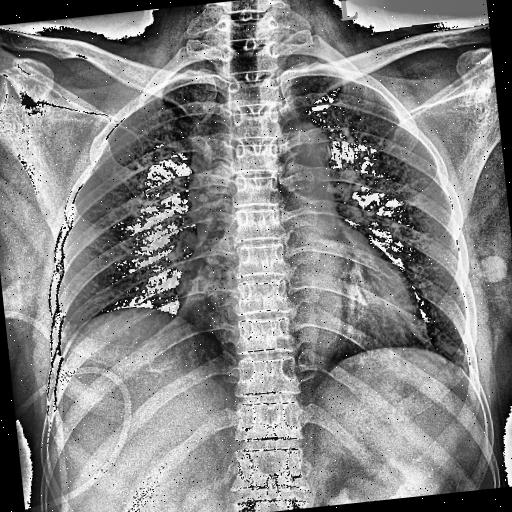0- Aortic enlargement: (147, 99, 341, 290), (184, 108, 334, 210)
2- Calcification: (308, 126, 336, 163)
3- Cardiomegaly: (152, 186, 444, 405), (168, 224, 430, 376)
9- Other lesion: (6, 289, 149, 512)
